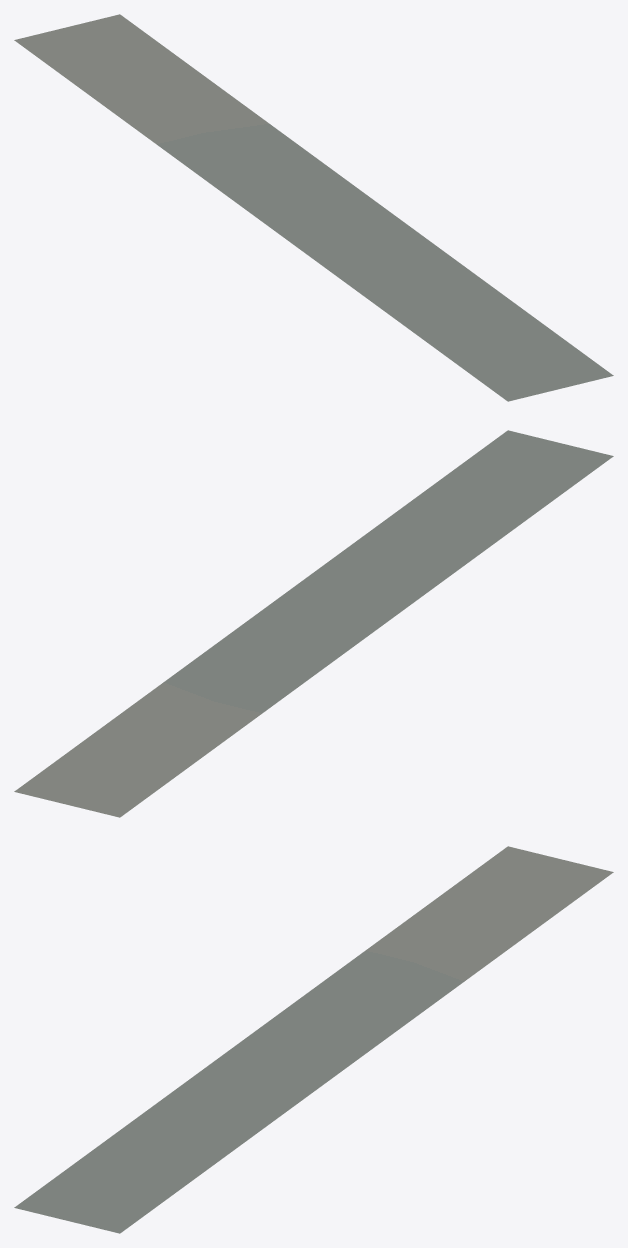
Rendered from kd_stage_135b75_4_93_bounded_piece_3.glb.
The picture shows the model from 3 angles, top to bottom: view 1: azimuth 30°, elevation 25°; view 2: azimuth 150°, elevation 25°; view 3: azimuth 330°, elevation 25°; orthographic projection.
Visible parts, largest first — view 1: kd_stage_135b75_4_93_bounded_piece_3; view 2: kd_stage_135b75_4_93_bounded_piece_3; view 3: kd_stage_135b75_4_93_bounded_piece_3.
Boxes of the visible parts, bbox=[...] form: kd_stage_135b75_4_93_bounded_piece_3: bbox=[14, 14, 613, 401]; kd_stage_135b75_4_93_bounded_piece_3: bbox=[14, 430, 613, 817]; kd_stage_135b75_4_93_bounded_piece_3: bbox=[14, 846, 613, 1233].
Size of the model in its own units: 0.1 by 2.38e-07 by 0.8066.
1 material, 1 textured.
